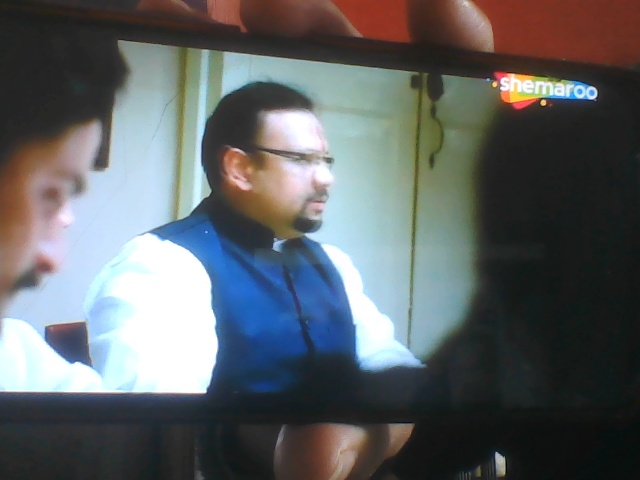fake: (229, 83, 338, 237)
